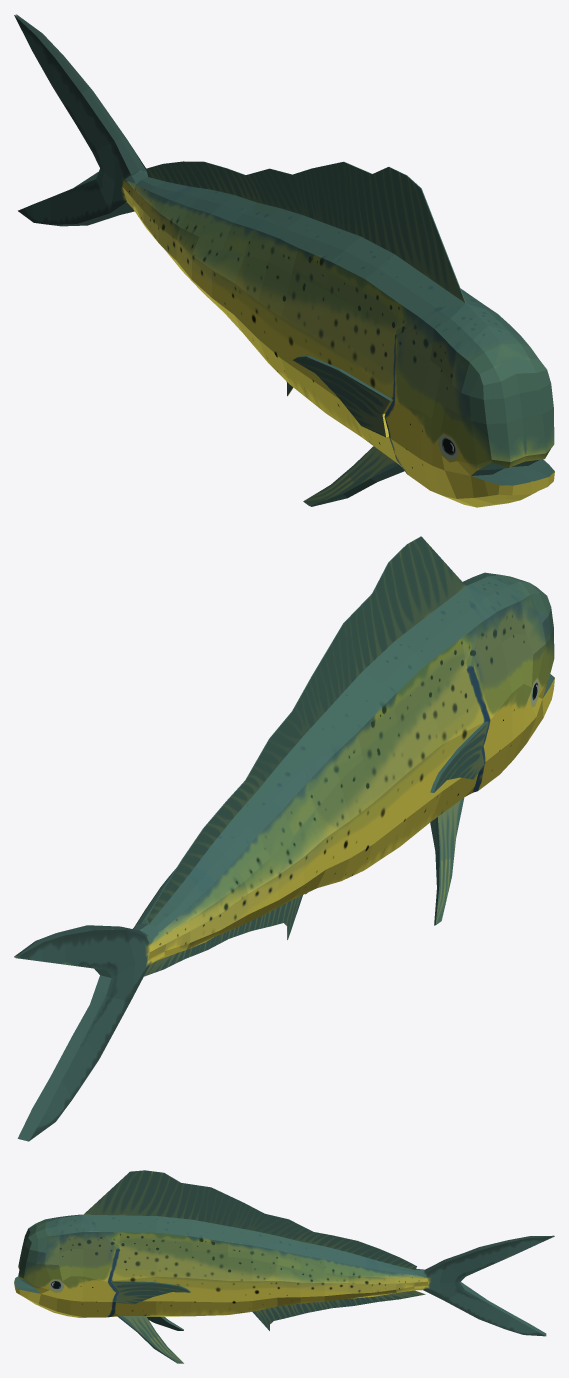
The model's file is Coryphaena_hippurus.fbx.
The picture shows the model from 3 angles, top to bottom: view 1: azimuth 30°, elevation 25°; view 2: azimuth 150°, elevation 25°; view 3: azimuth 270°, elevation 25°; orthographic projection. The views are drawn at different scales.
Parts seen in each view (by area): view 1: Llampuga; view 2: Llampuga; view 3: Llampuga.
Part boxes in pixels (left/top/right/bottom): Llampuga: left=14, top=14, right=554, bottom=507; Llampuga: left=14, top=536, right=554, bottom=1141; Llampuga: left=14, top=1170, right=554, bottom=1363.
Bounding box in the file's own units: 70.94 × 162 × 450.
Materials: 1 (1 with a texture image).
